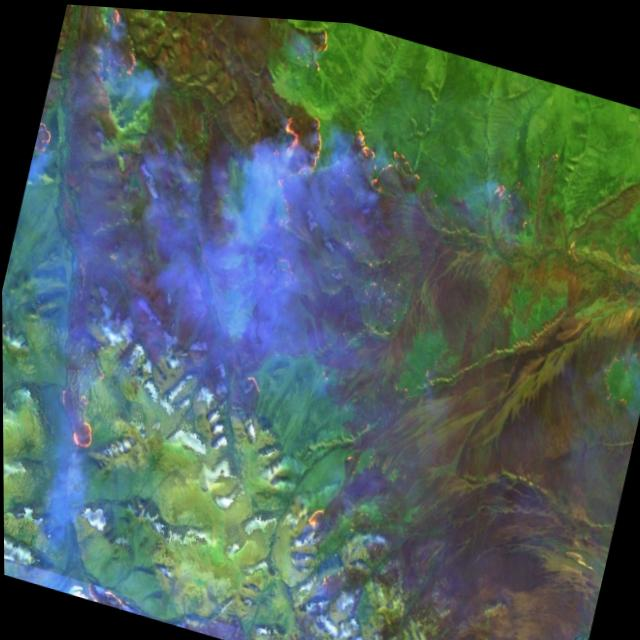fire: (255, 92, 330, 229), (44, 355, 114, 464), (333, 108, 420, 192), (85, 4, 162, 91), (479, 160, 547, 227), (296, 18, 338, 74), (296, 492, 336, 549), (31, 118, 56, 158)
